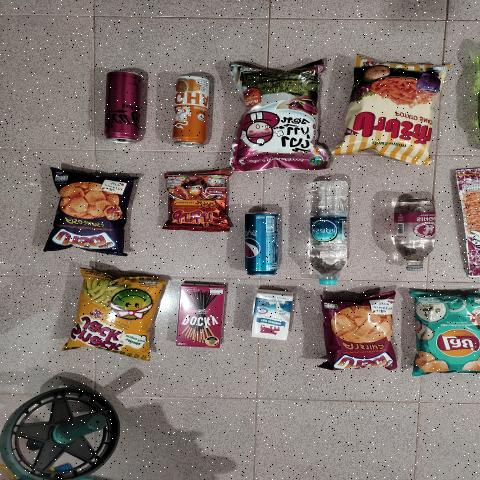coke_red: (106, 69, 141, 144)
crystal: (305, 181, 350, 285)
lay_blue: (415, 293, 480, 373)
mama: (164, 174, 226, 232)
paprika: (354, 66, 434, 152)
party_purple: (54, 169, 120, 254)
party_red: (322, 299, 396, 370)
pepsi_blue: (244, 214, 279, 278)
pokki: (181, 284, 218, 344)
singha_soda: (390, 196, 438, 272)
singha_yellow: (177, 75, 212, 148)
snack_jack: (78, 270, 144, 353)
taokaenoi: (237, 73, 319, 166)
thai_denmark: (255, 290, 290, 337)
